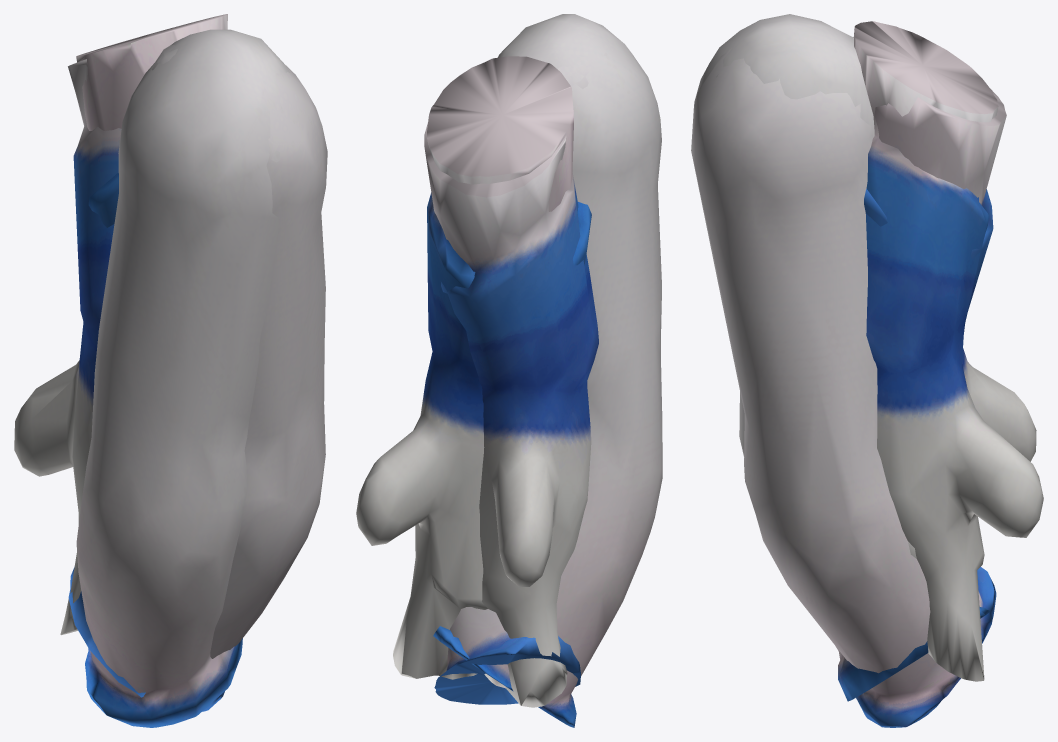
The model's file is arms-rbx989.glb.
3 renders of one model, left to right at view 1: azimuth 30°, elevation 25°; view 2: azimuth 150°, elevation 25°; view 3: azimuth 270°, elevation 25°, orthographic. The views are drawn at different scales.
Visible parts, largest first — view 1: armR__rbx, armL__rbx, elbowL__rbx, elbowR__rbx; view 2: elbowL__rbx, armR__rbx, elbowR__rbx, armL__rbx; view 3: armL__rbx, elbowR__rbx, elbowL__rbx, armR__rbx.
Boxes of the visible parts, x1,y1,x2,y2 form: armR__rbx: (76,29,290,727); armL__rbx: (68,45,327,711); elbowL__rbx: (14,59,121,635); elbowR__rbx: (76,14,227,227); elbowL__rbx: (424,123,598,707); armR__rbx: (433,14,662,727); elbowR__rbx: (356,56,591,679); armL__rbx: (434,36,607,704); armL__rbx: (691,38,996,727); elbowR__rbx: (853,21,1043,681); elbowL__rbx: (864,89,1036,558); armR__rbx: (694,14,990,701).
Bounding box in the file's own units: 0.1447 × 0.4402 × 0.2044.
Materials: 2 (2 with a texture image).
